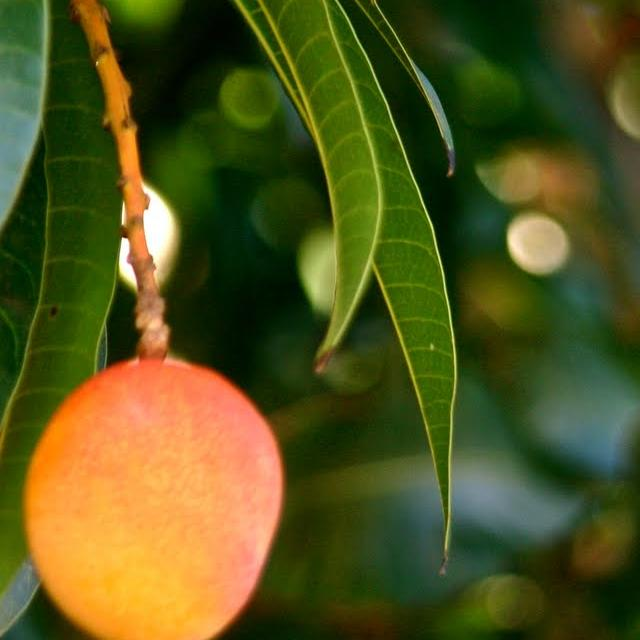mango: (11, 352, 283, 640)
